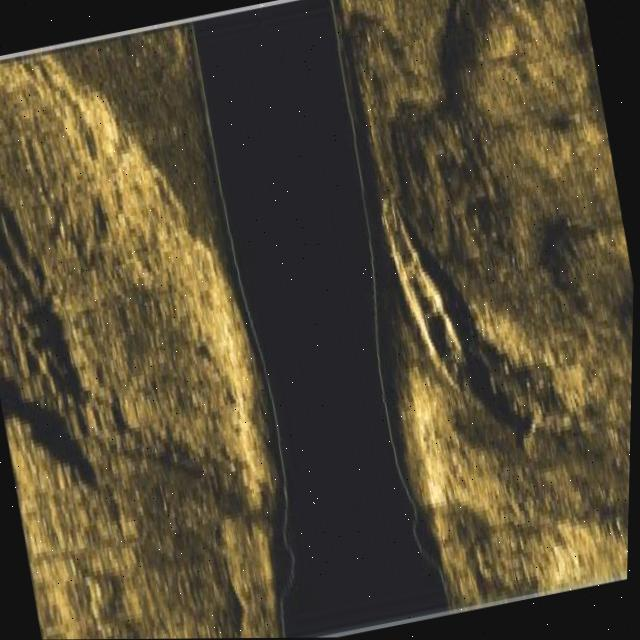shipwreck: (370, 163, 483, 399)
